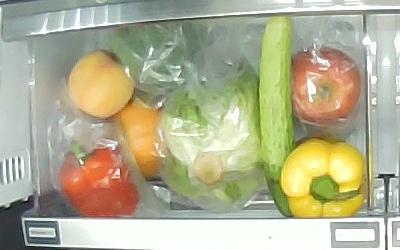apple_vinyl: (291, 48, 361, 126)
broccoli_vinyl: (113, 22, 214, 96)
cucumber: (259, 16, 296, 217)
grapefruit: (109, 100, 175, 178)
lettuce_vinyl: (159, 74, 265, 212)
paprika: (281, 138, 365, 218)
paprika_vinyl: (59, 139, 140, 218)
peach: (67, 50, 136, 119)
